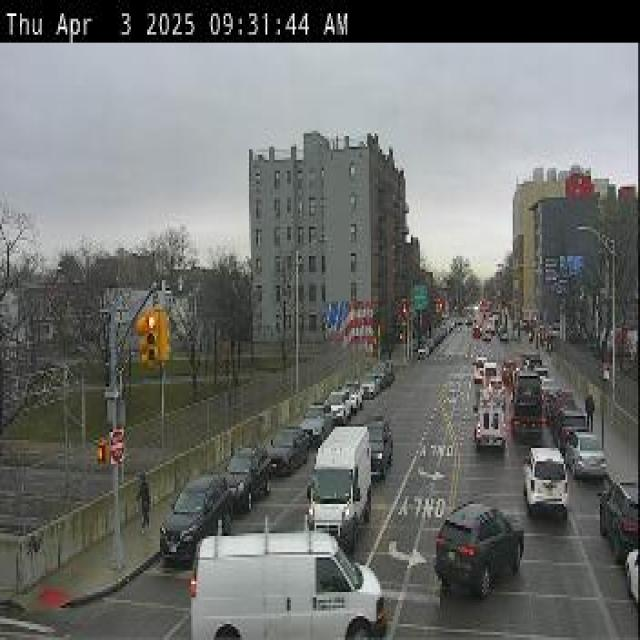open parking: (578, 458, 627, 508)
parkedCars: (153, 445, 269, 548), (580, 468, 640, 592), (238, 422, 307, 485), (546, 382, 604, 455), (291, 394, 337, 438)
